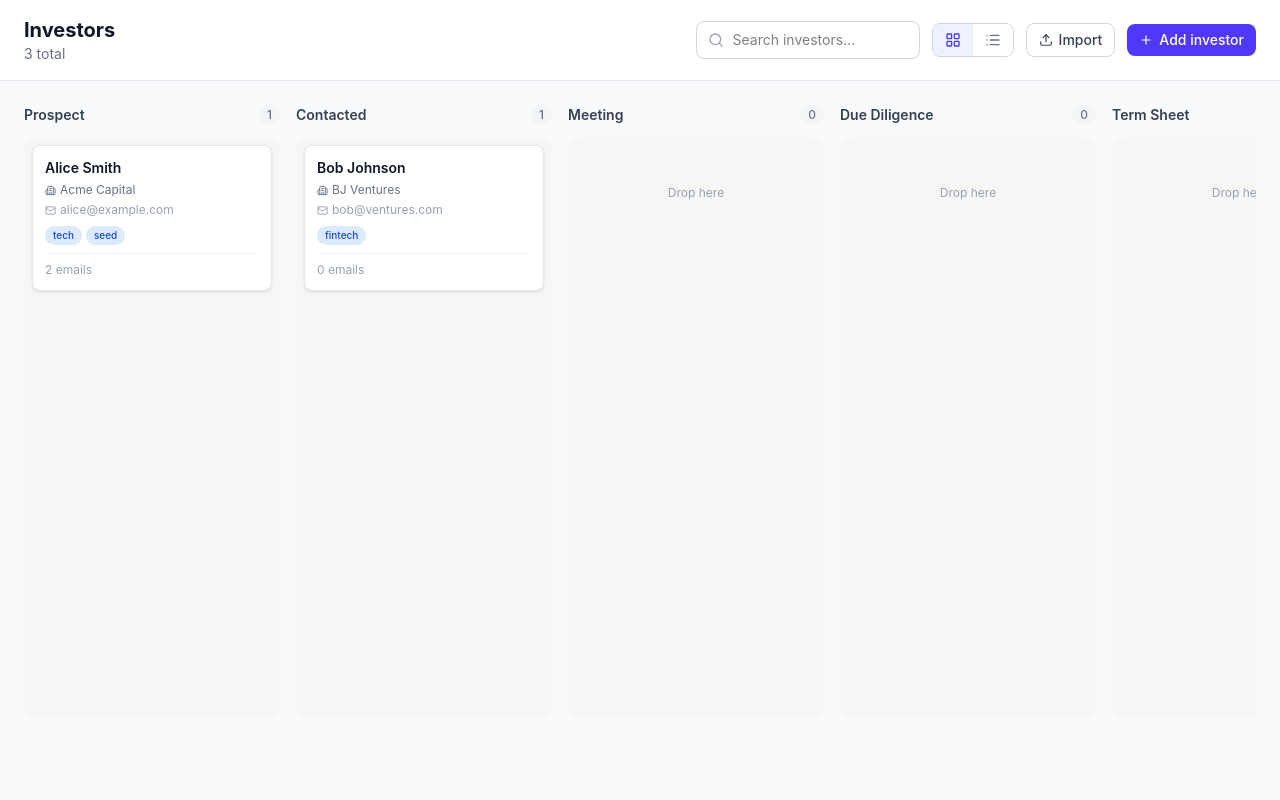
InvestorsPage › opens investor detail when clicking a row in list view
Step 1. Click the button titled "List view" → x=993, y=40, box left=973, top=24, right=1013, bottom=56
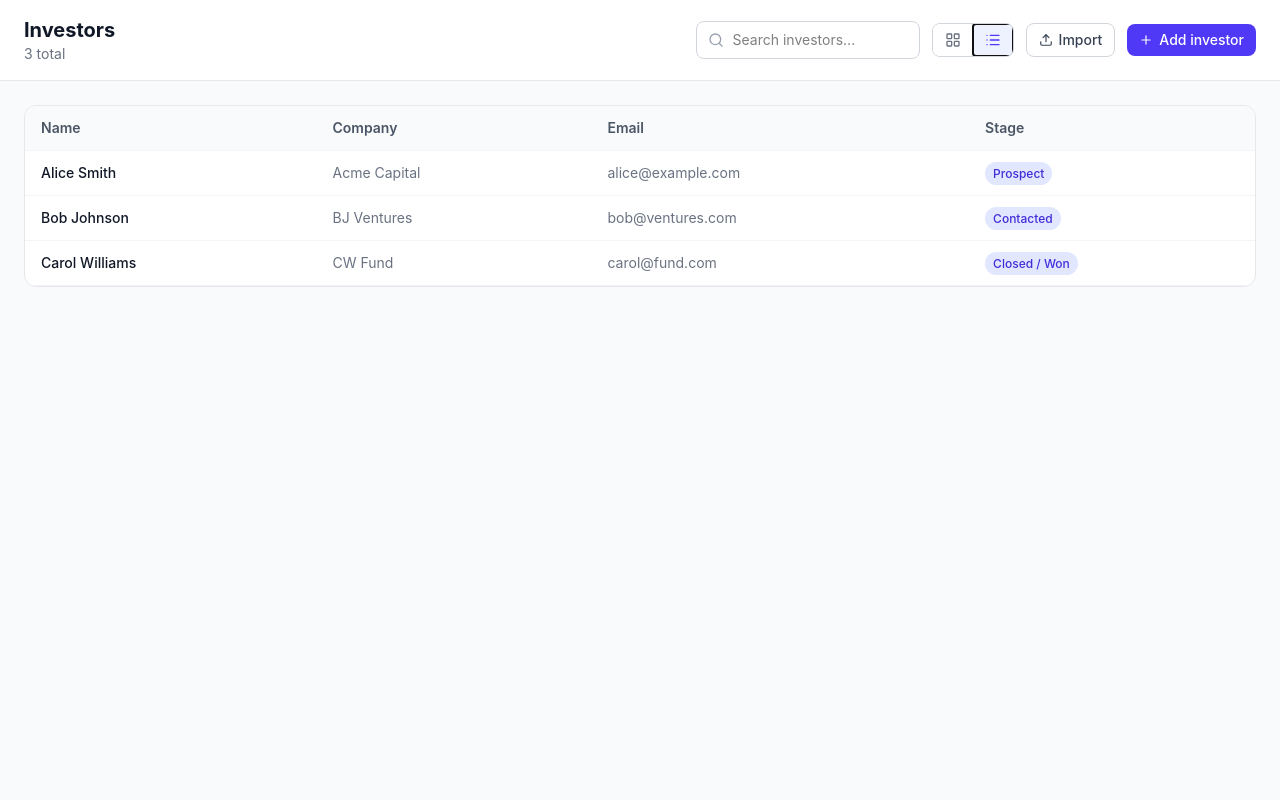
Step 2. Click the text "Alice Smith" → x=58, y=172, box left=25, top=150, right=316, bottom=196
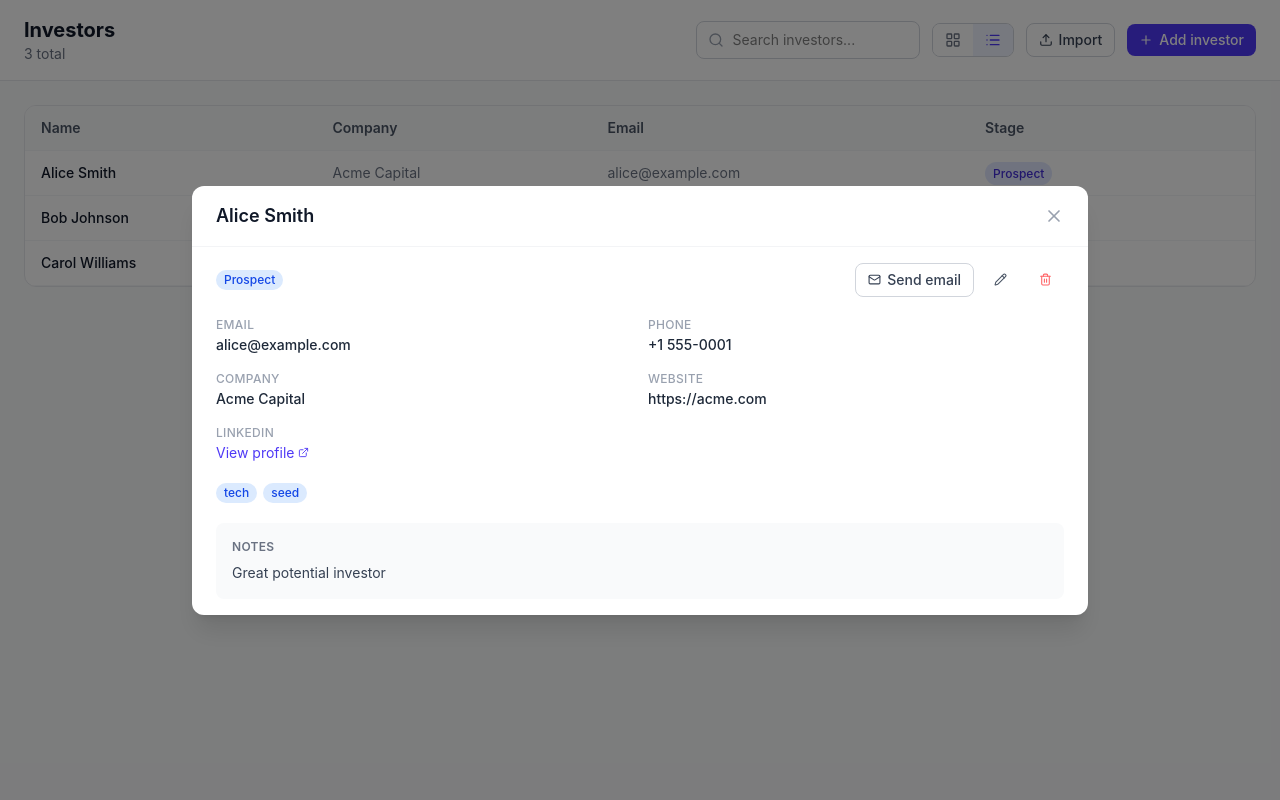
expect the dialog is shown: met, box left=192, top=186, right=1088, bottom=614
